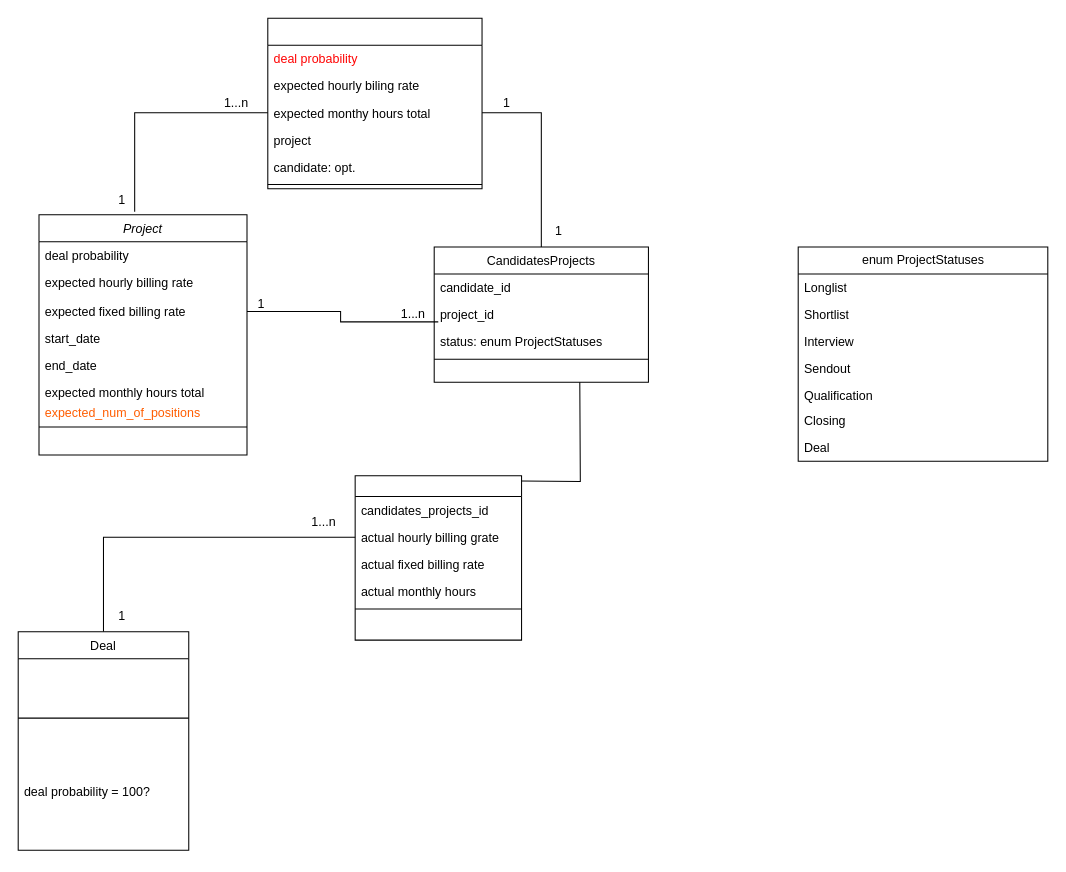
The diagram is 1066 pixels wide and 872 high, and some of its shapes have lost their labels. Here are the shapes that lost their labels. From the top down, the box of each, then its label:
(267, 17, 482, 189): Position
(354, 475, 522, 640): Provision
